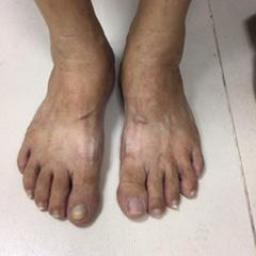Dorsal View -Both Feet-: (10, 10, 216, 226)
